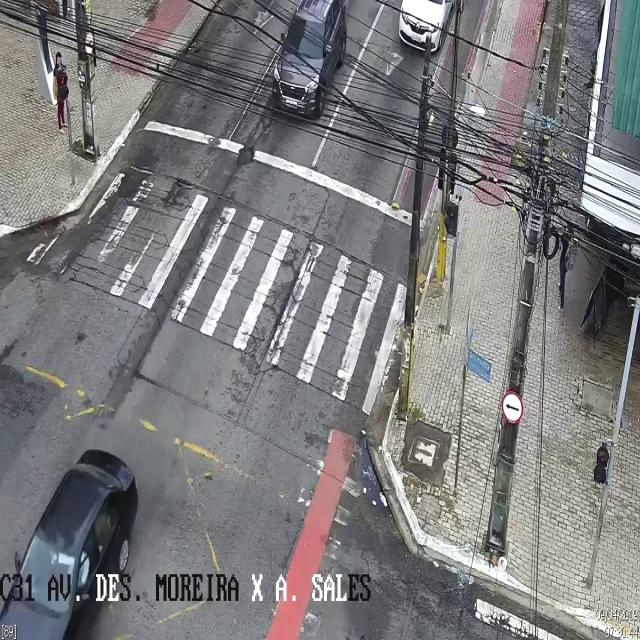Car: (4, 449, 140, 640), (270, 0, 346, 115), (401, 1, 454, 55)
